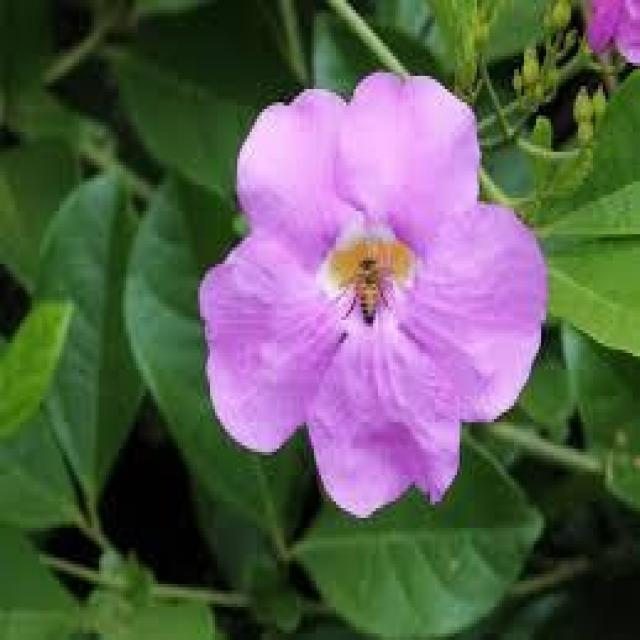organic waste: (196, 63, 558, 508)
